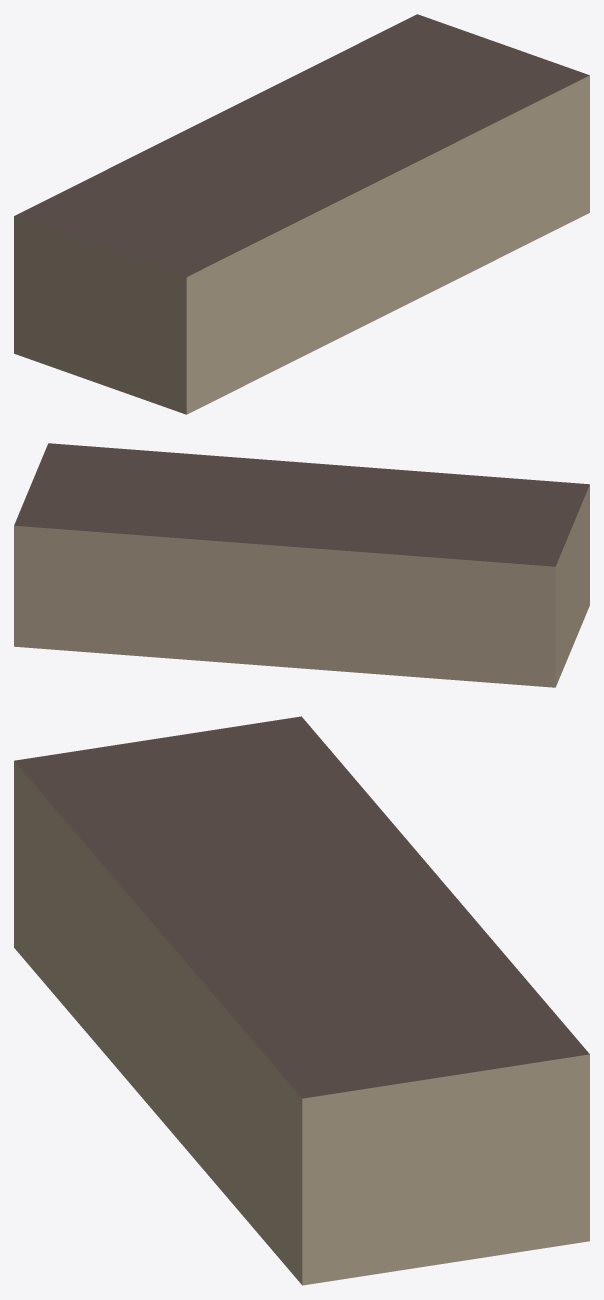
3 renders of one model, top to bottom at view 1: azimuth 30°, elevation 25°; view 2: azimuth 150°, elevation 25°; view 3: azimuth 270°, elevation 25°, orthographic. The views are drawn at different scales.
Parts seen in each view (by area): view 1: HP-w408450654; view 2: HP-w408450654; view 3: HP-w408450654.
Part boxes in pixels (<box>): HP-w408450654: <box>14,14,589,414</box>; HP-w408450654: <box>14,443,589,687</box>; HP-w408450654: <box>14,716,589,1285</box>.
Size of the model in its own units: 39.47 by 9 by 25.13.
